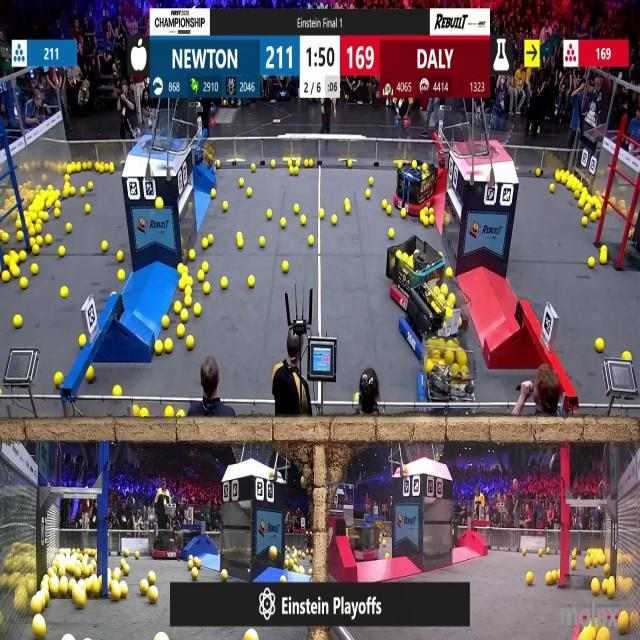ball_airborne: (158, 199, 165, 210)
ball_ground: (148, 588, 157, 604), (597, 628, 609, 639), (592, 580, 600, 596), (111, 587, 120, 601), (12, 315, 21, 328), (165, 340, 173, 354), (56, 373, 64, 387), (596, 339, 604, 353), (88, 366, 96, 380), (600, 250, 607, 264), (607, 585, 614, 599), (174, 302, 182, 314), (186, 338, 194, 350), (178, 324, 185, 337), (155, 342, 162, 355), (78, 336, 85, 349), (120, 585, 127, 598), (180, 311, 188, 322), (21, 278, 29, 289), (113, 385, 121, 396), (117, 270, 124, 282), (248, 276, 255, 288), (163, 316, 170, 328), (220, 277, 227, 289), (2, 272, 9, 284), (193, 305, 200, 317), (148, 571, 155, 583), (19, 277, 26, 289), (166, 408, 174, 418), (32, 245, 40, 255), (116, 383, 124, 393), (527, 571, 533, 584), (282, 263, 289, 274), (190, 568, 197, 579), (589, 256, 596, 267), (624, 352, 632, 361), (177, 410, 185, 419), (62, 286, 68, 298), (19, 250, 25, 262), (140, 409, 148, 418), (205, 282, 211, 294), (545, 571, 551, 583), (31, 266, 38, 276), (198, 272, 205, 282), (582, 216, 589, 226), (220, 570, 227, 580), (183, 296, 190, 306), (388, 230, 395, 240), (116, 251, 123, 261), (364, 188, 371, 198), (259, 237, 265, 248), (584, 205, 591, 214), (83, 205, 90, 214), (44, 236, 51, 245), (66, 222, 72, 232), (60, 246, 66, 256), (221, 202, 227, 212), (280, 217, 286, 227), (203, 239, 209, 249), (178, 265, 184, 275), (318, 209, 324, 219), (586, 557, 592, 567), (102, 242, 108, 252), (309, 236, 315, 246), (2, 234, 8, 244), (208, 236, 214, 246), (16, 233, 22, 242), (268, 209, 273, 219), (204, 264, 209, 274), (179, 280, 184, 290), (184, 286, 191, 293), (447, 269, 453, 277), (246, 187, 252, 195), (55, 209, 61, 217), (293, 205, 299, 213), (590, 212, 596, 220), (299, 216, 305, 224), (271, 162, 277, 170), (89, 181, 94, 190), (400, 209, 405, 218), (331, 215, 336, 224), (281, 575, 286, 583), (101, 240, 106, 248), (64, 189, 69, 197), (80, 187, 85, 195), (289, 168, 294, 176), (388, 207, 392, 216), (368, 177, 372, 186), (212, 188, 216, 197), (536, 169, 540, 178), (572, 560, 576, 569), (56, 201, 61, 208), (386, 553, 390, 561), (240, 179, 244, 187), (348, 162, 352, 170), (388, 230, 392, 238), (346, 206, 350, 213), (136, 554, 140, 560)
goal: (460, 116, 515, 158), (129, 117, 185, 152)
robot_blue: (398, 287, 472, 359), (416, 337, 475, 410), (171, 528, 198, 558)
robot_red: (387, 236, 448, 312), (396, 161, 438, 212), (348, 522, 379, 560), (150, 529, 179, 558)
